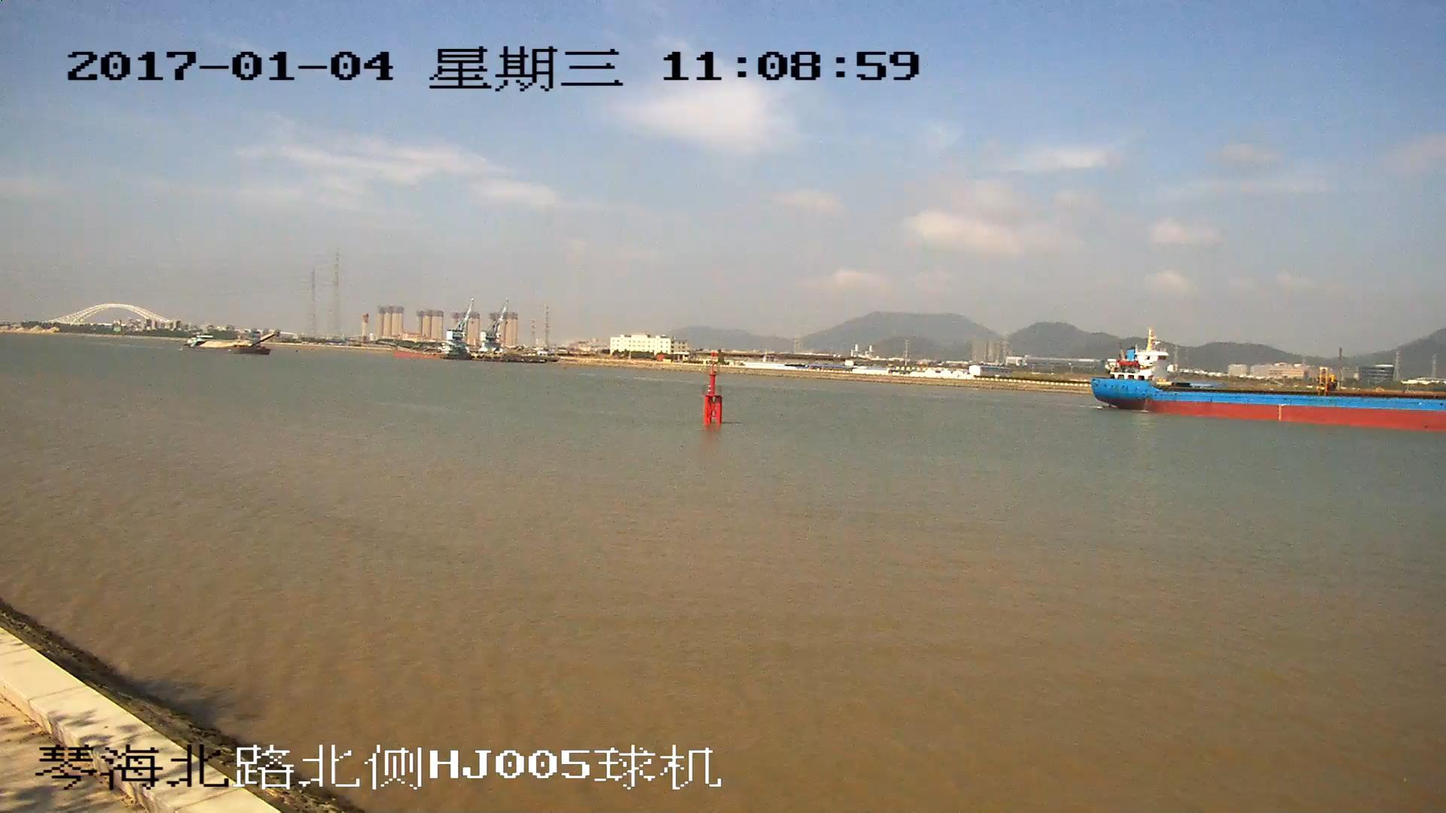general cargo ship: (1092, 329, 1445, 436)
